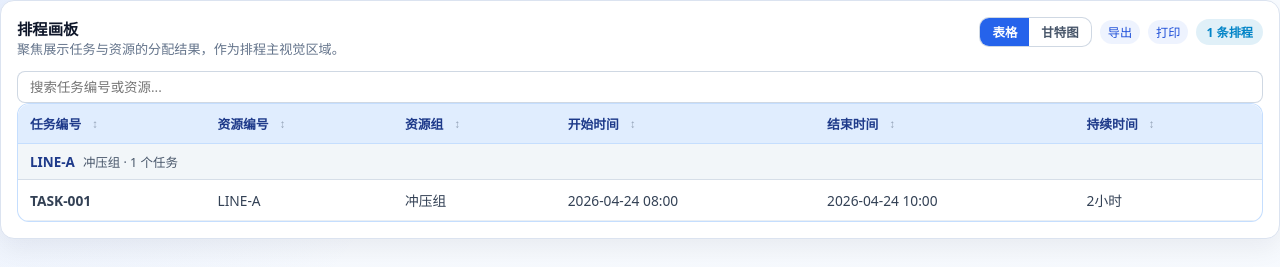
it: ScheduleBoard › 点击甘特图按钮切换到甘特视图
This screenshot has width=1280, height=267.
Click the button with test id "view-mode-gantt": {"x": 1060, "y": 32} [1029,18,1091,46]
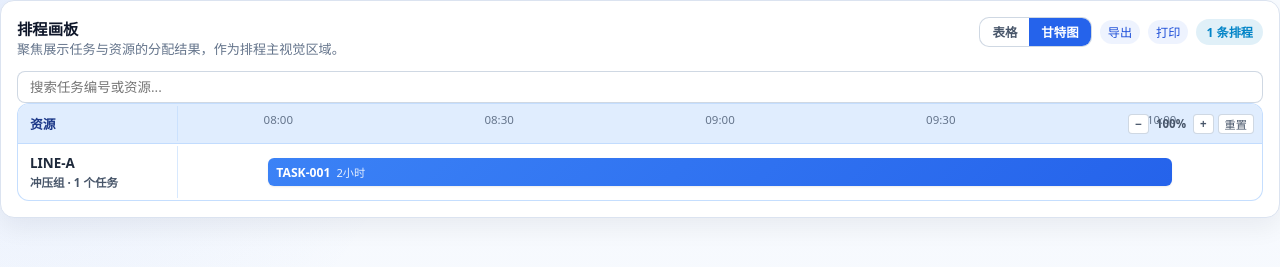
Expected: the element named "甘特图" is shown, [17,103,1263,201]
Expected: the element with test id "gantt-row-LINE-A" is shown, [18,144,1262,200]
Expected: the element with test id "gantt-bar-TASK-001" is shown, [268,158,1172,186]
